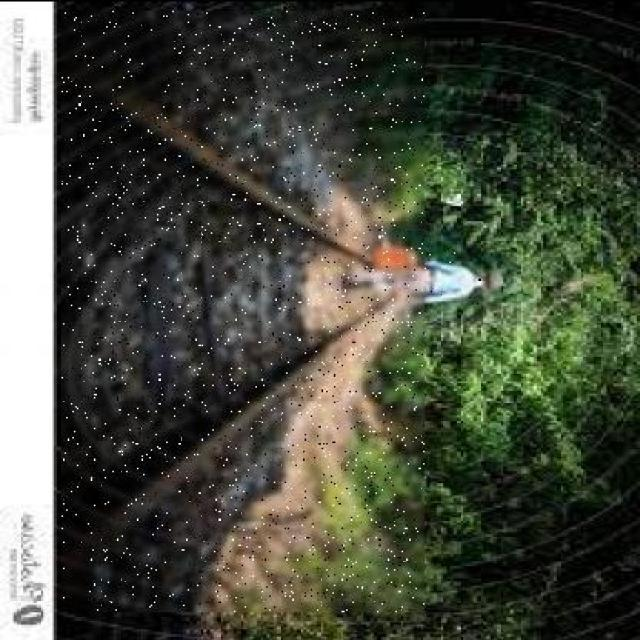danger: (338, 250, 502, 308)
rail: (62, 9, 424, 609)
